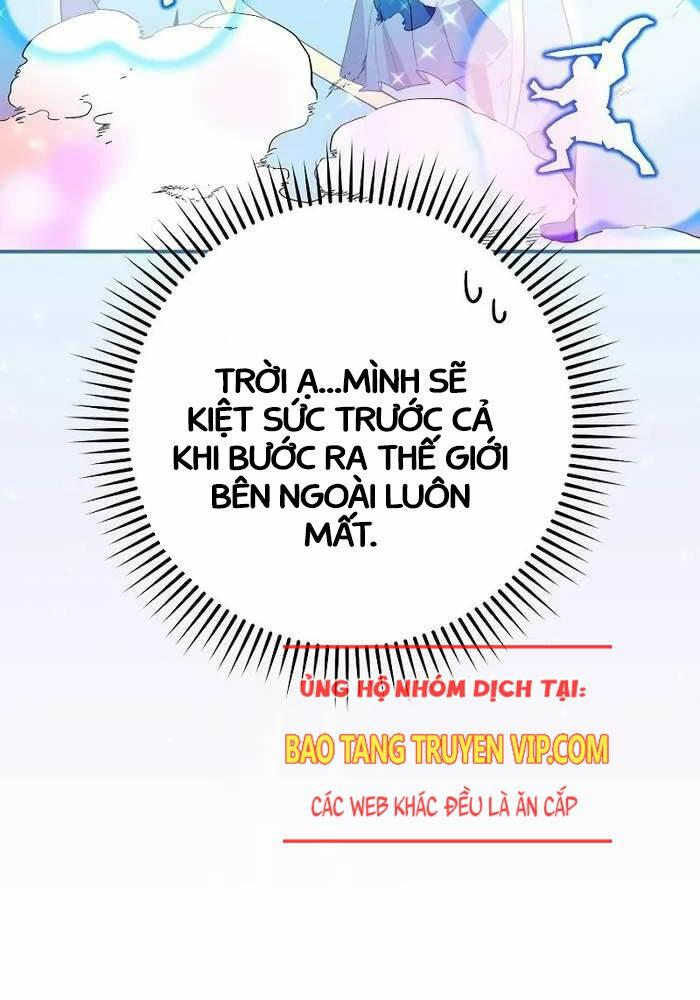quangcao: (283, 641, 616, 849)
